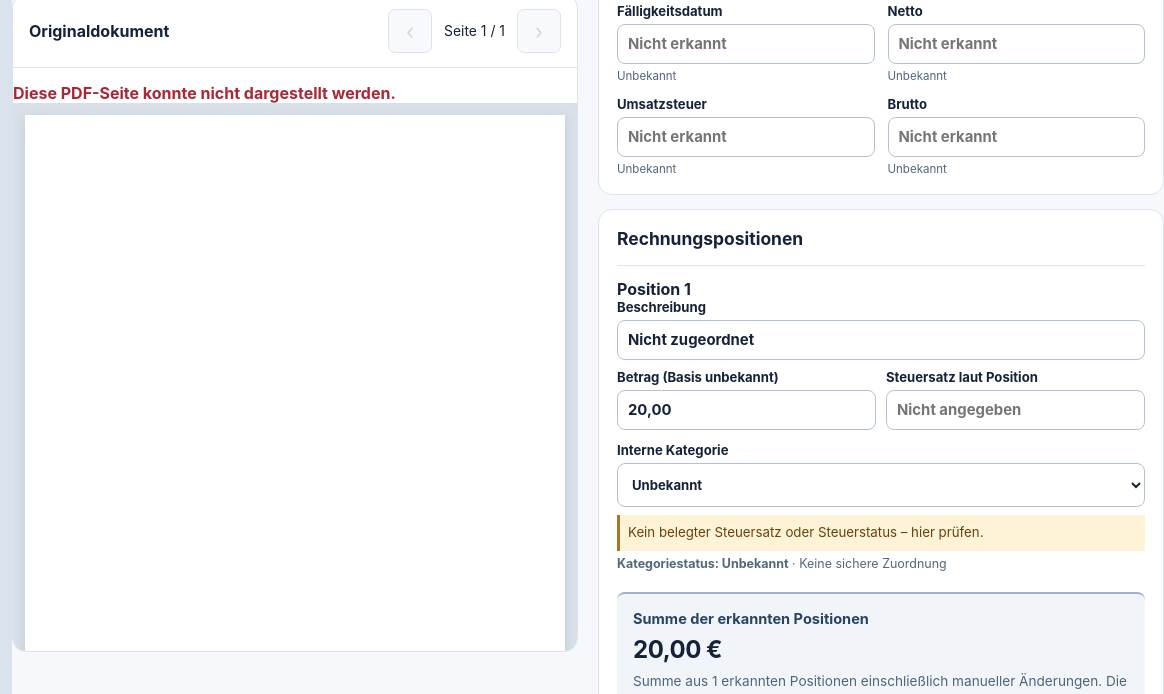
Test case: asynchronous category suggestions › aborts stale inference when the description changes and keeps the new category
This screenshot has width=1164, height=694.
(page scrolled)
Replace the text in the field named "Position 1 Beschreibung" with "Kurtaxe". click: (881, 340)
box: [617, 320, 1145, 360]
(page scrolled)
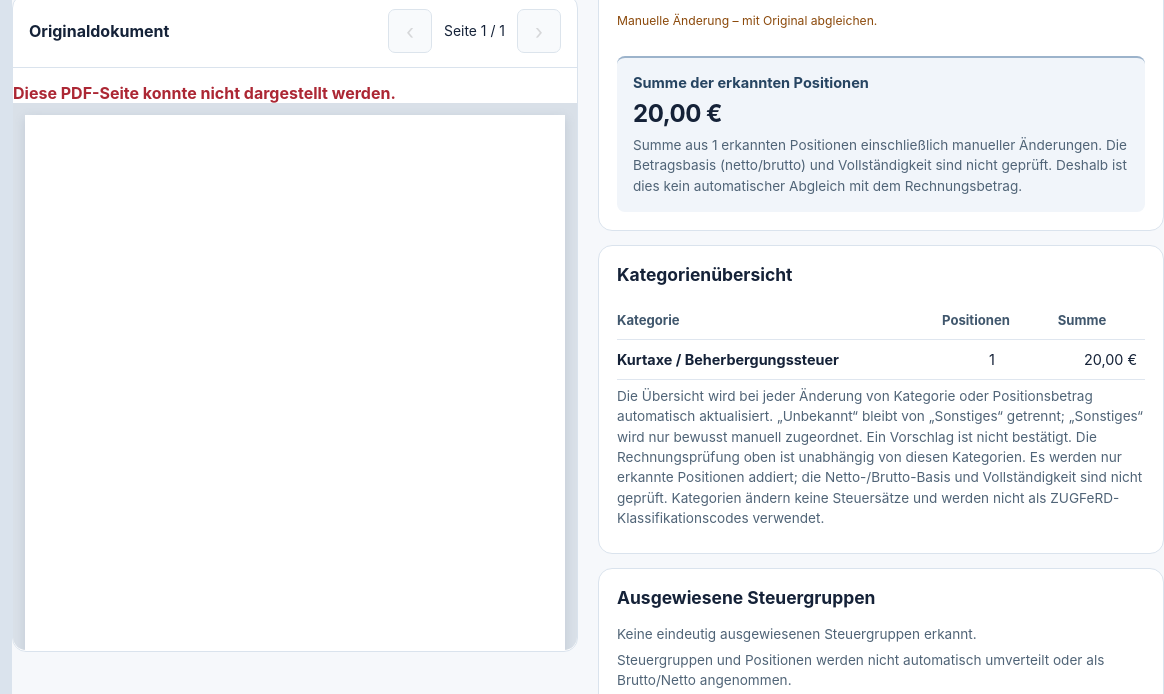
Expected: the table shows "20,00 €", [1084, 351, 1137, 368]
Result: the table shows "Kurtaxe / Beherbergungssteuer" at [617, 351, 839, 368]
